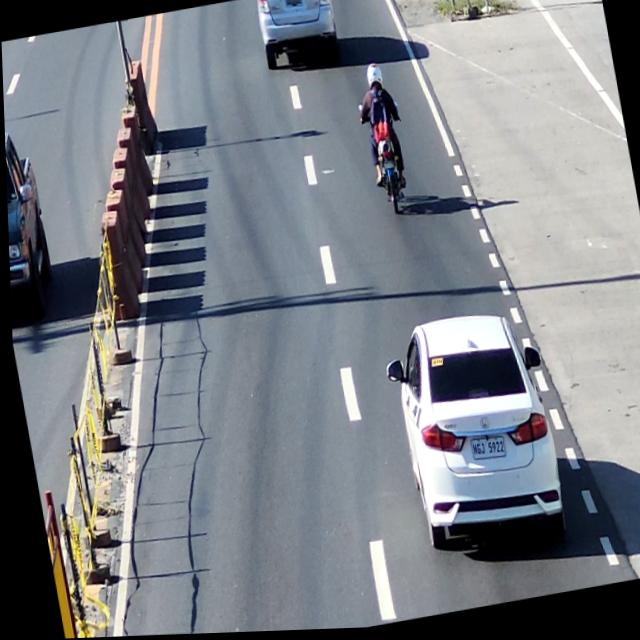Car: (385, 306, 565, 561), (4, 124, 53, 315), (253, 0, 344, 73)
License-Plate: (466, 435, 507, 471), (379, 160, 396, 175)
